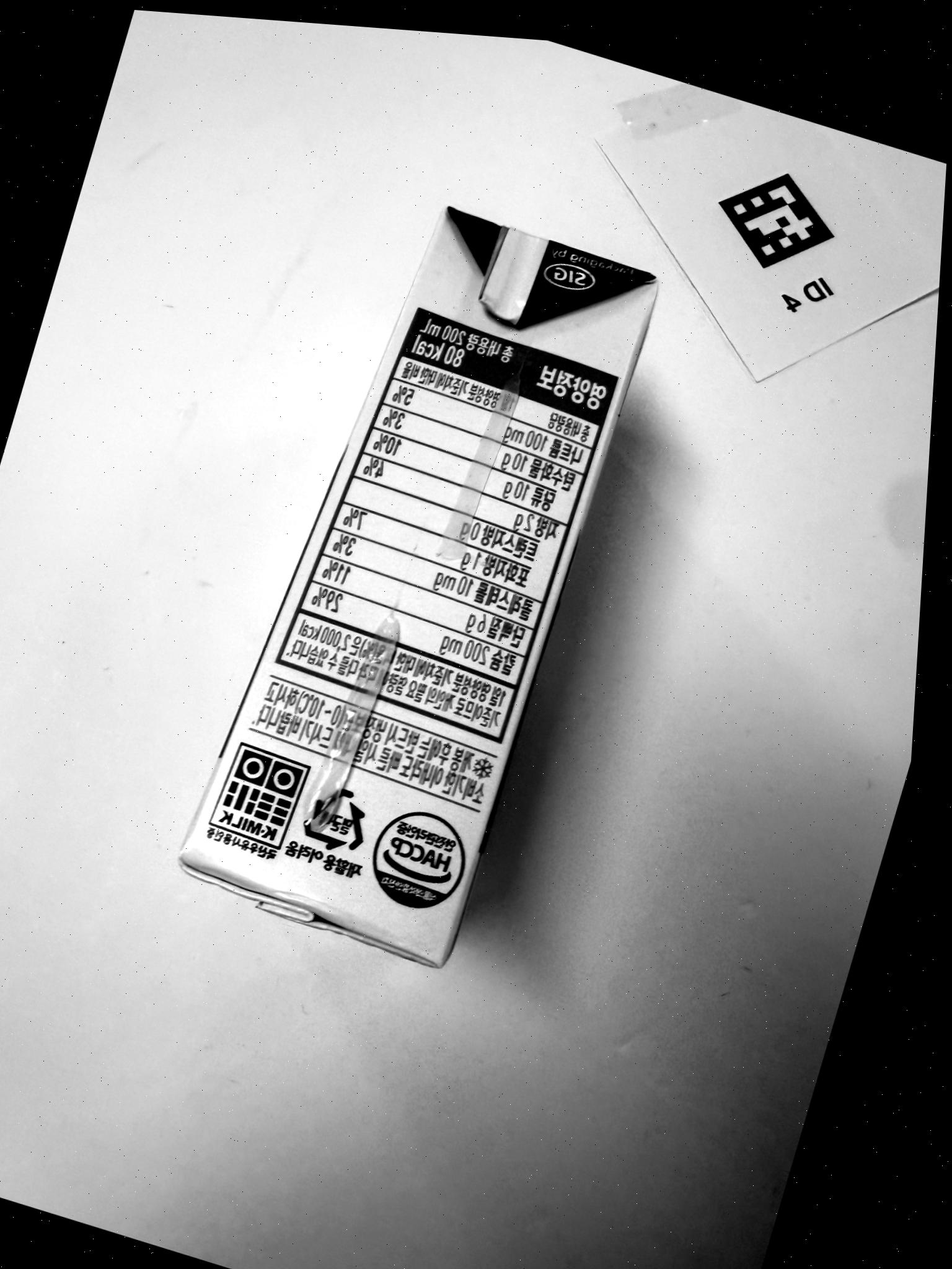milk_blue: (180, 210, 655, 966)
